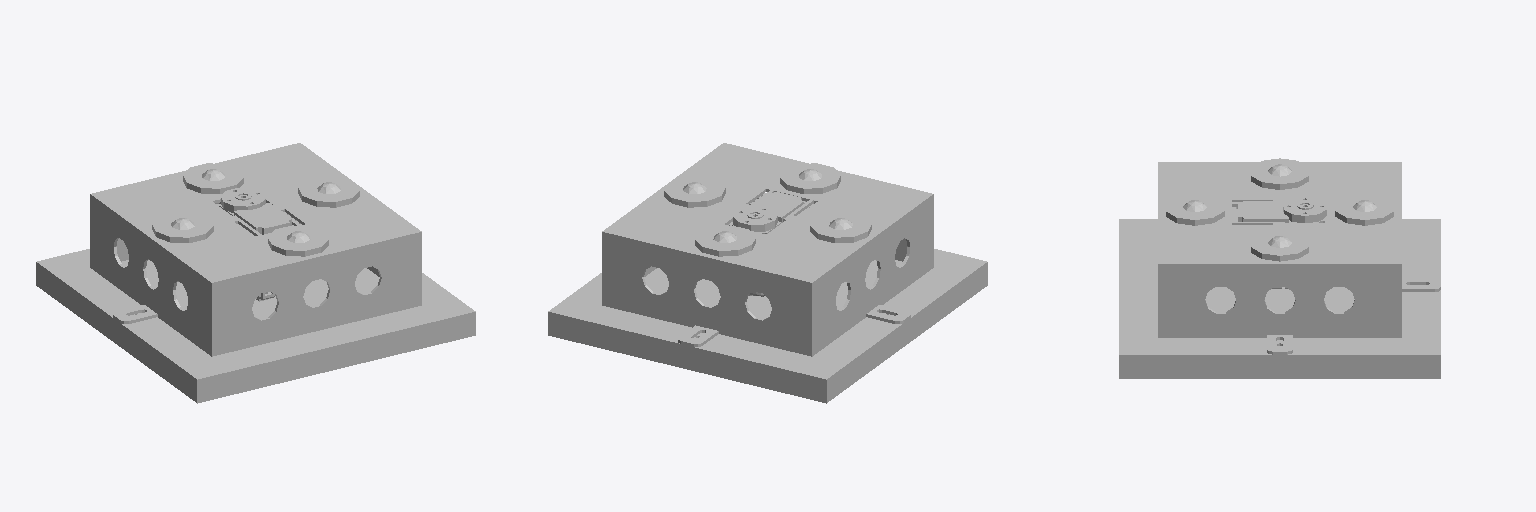
The model's file is ground_link.obj.
3 renders of one model, left to right at view 1: azimuth 30°, elevation 25°; view 2: azimuth 150°, elevation 25°; view 3: azimuth 270°, elevation 25°, orthographic.
Visible parts, largest first — view 1: 1, 9, 3, 8, 7, 6, 5; view 2: 1, 9, 3, 8, 7, 5, 6; view 3: 1, 9, 3, 5, 6, 7, 8.
Part boxes in pixels (x1,y1,x2,y2): 1: (90,143,421,356); 9: (36,249,475,403); 3: (217,188,301,301); 8: (152,212,213,242); 7: (298,177,359,207); 6: (268,225,328,256); 5: (183,163,243,203); 1: (602,143,933,356); 9: (548,249,987,403); 3: (728,192,813,296); 8: (810,212,871,242); 7: (664,177,725,207); 5: (695,225,755,256); 6: (780,163,840,193); 1: (1158,162,1440,354); 9: (1119,219,1440,378); 3: (1232,197,1326,288); 5: (1335,194,1393,225); 6: (1166,194,1224,225); 7: (1251,230,1308,261); 8: (1251,158,1308,189).
Bounding box in the file's own units: 155 × 57.92 × 155.